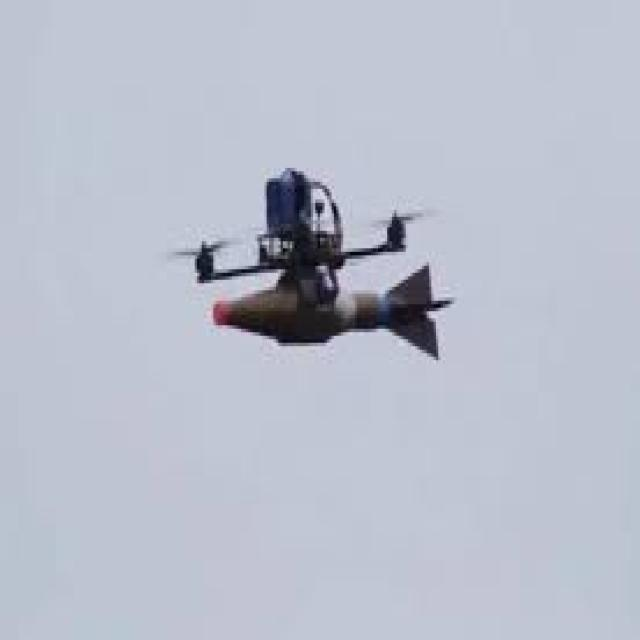drone: (170, 164, 454, 364)
